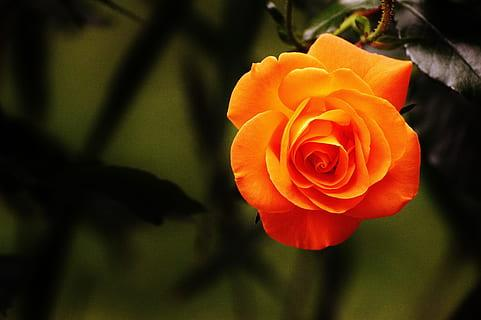Rose: (226, 40, 432, 253)
